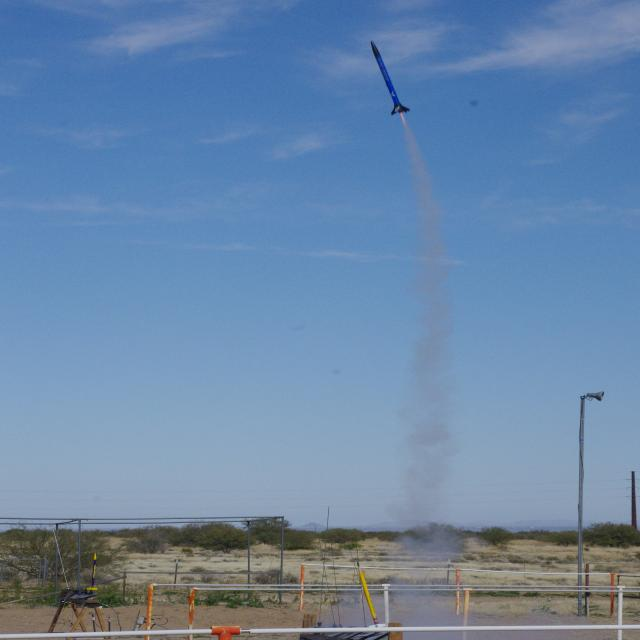Rocket: (370, 40, 410, 116), (357, 561, 386, 627), (87, 553, 98, 590)
